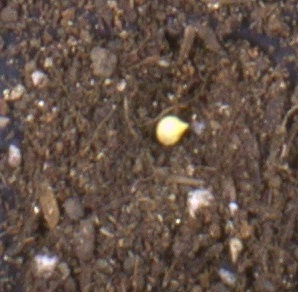chilli seed: (154, 115, 189, 146)
